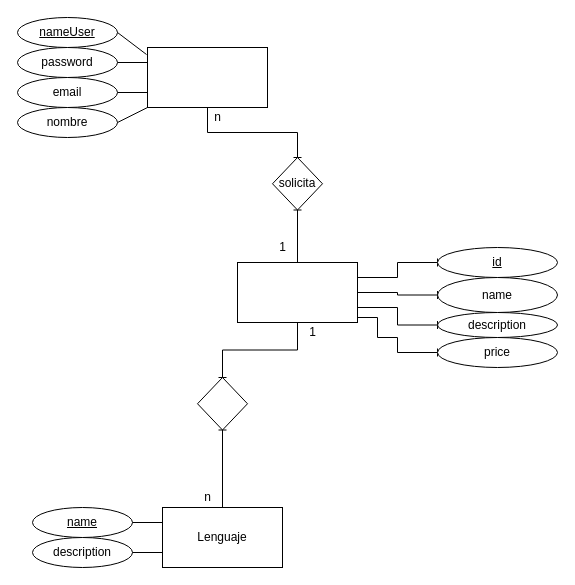
Some shapes in this 575 by 585 pixel diagram are drawn without their labels. Here are the shapes that lost their labels. From the top down, the centre of each, then its label:
At [207,77]: "Usuario".
At [297,292]: "Servicio".
At [222,403]: "requiere".
